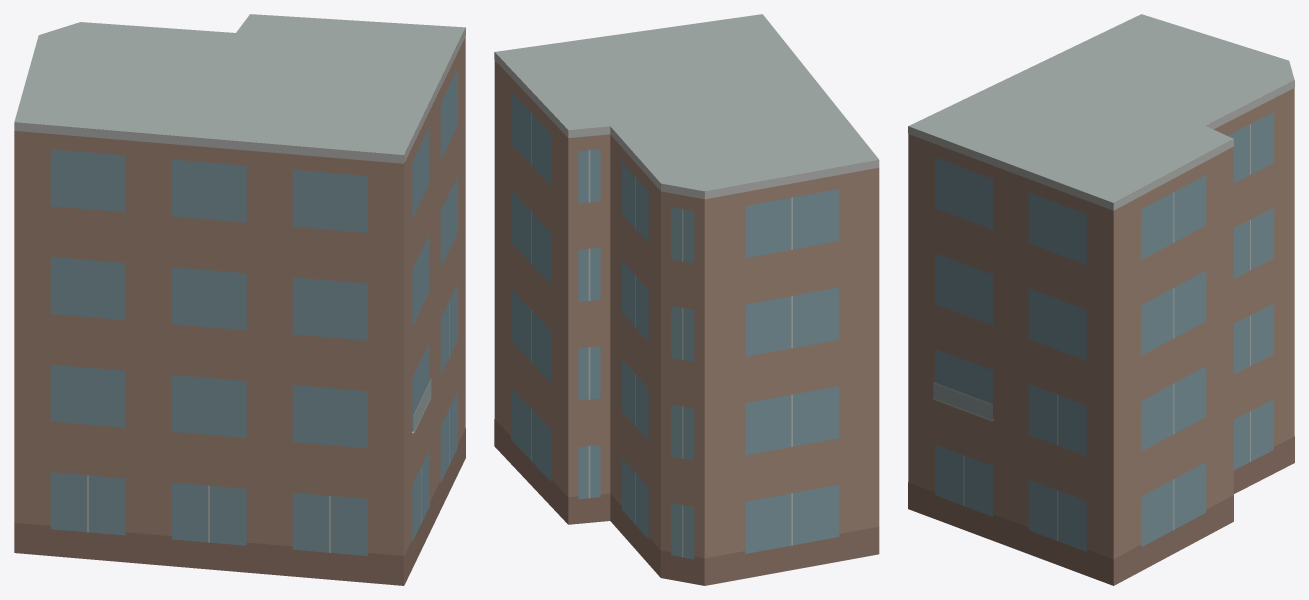
File: survey-upis-32951815.glb
The picture shows the model from 3 angles, left to right: view 1: azimuth 30°, elevation 25°; view 2: azimuth 150°, elevation 25°; view 3: azimuth 270°, elevation 25°; orthographic projection. The views are drawn at different scales.
Parts seen in each view (by area): view 1: survey-upis-32951815.tmp; view 2: survey-upis-32951815.tmp; view 3: survey-upis-32951815.tmp.
Part boxes in pixels (x1,y1,x2,y2): survey-upis-32951815.tmp: (14,14,465,585); survey-upis-32951815.tmp: (494,14,879,585); survey-upis-32951815.tmp: (908,14,1294,585).
Bounding box in the file's own units: 12.93 × 12.2 × 11.17.
